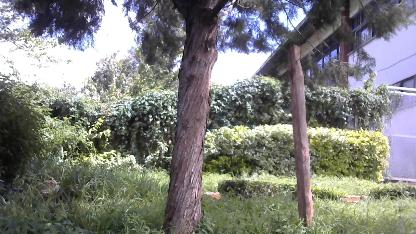tree: (155, 0, 228, 232), (284, 45, 329, 230)
